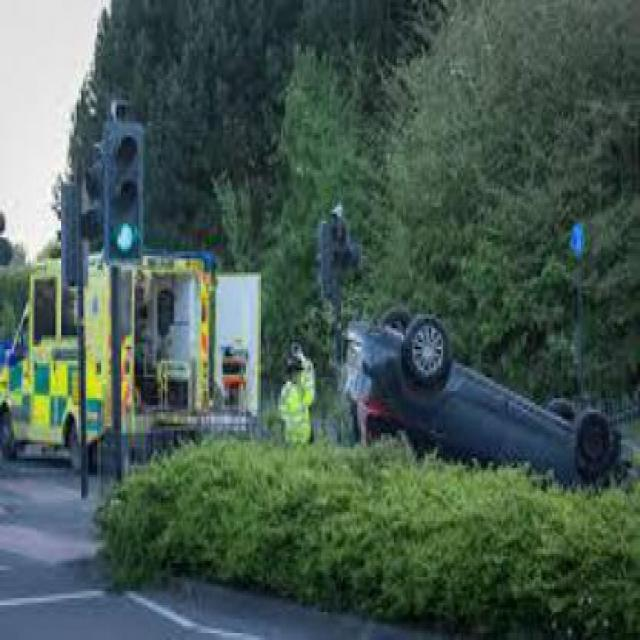accident: (332, 291, 625, 507)
